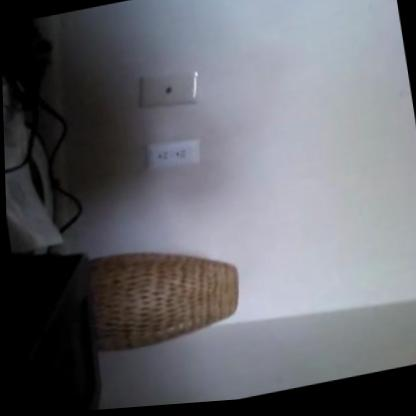OUTLET: (144, 135, 203, 171)
